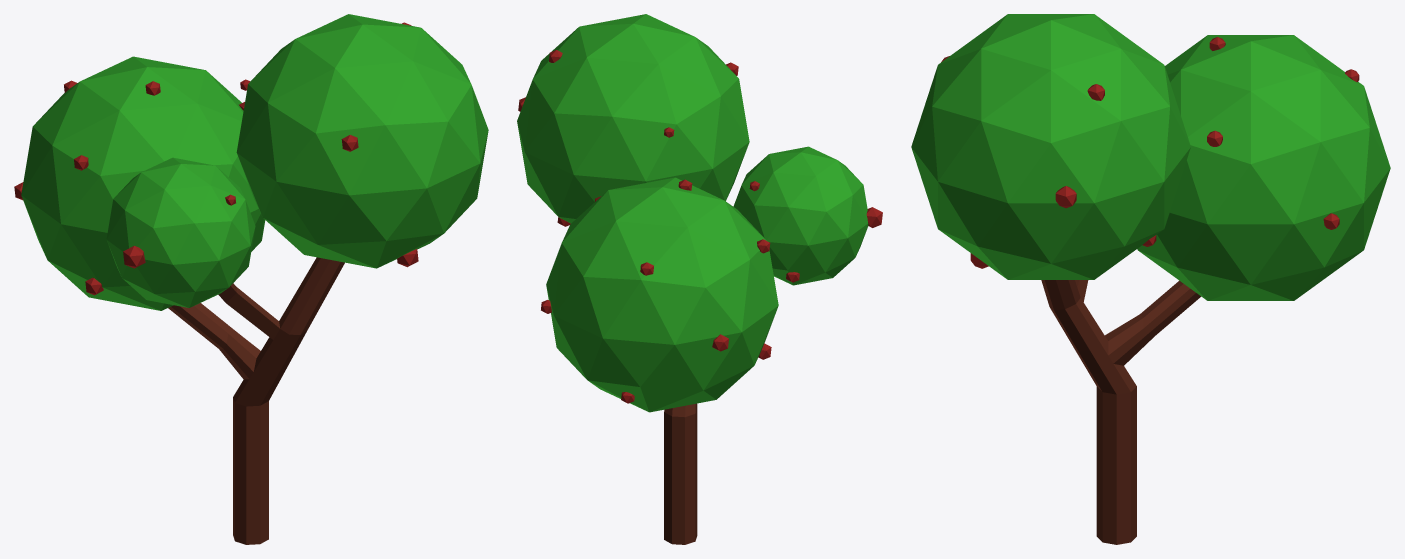
The model's file is Apple_tree.fbx.
3 renders of one model, left to right at view 1: azimuth 30°, elevation 25°; view 2: azimuth 150°, elevation 25°; view 3: azimuth 270°, elevation 25°, orthographic. The views are drawn at different scales.
Parts seen in each view (by area): view 1: Apple_tree; view 2: Apple_tree; view 3: Apple_tree.
Boxes of the visible parts, bbox=[...] form: Apple_tree: bbox=[14, 14, 488, 544]; Apple_tree: bbox=[517, 14, 882, 544]; Apple_tree: bbox=[911, 14, 1390, 544].
Bounding box in the file's own units: 332 × 441 × 343.
